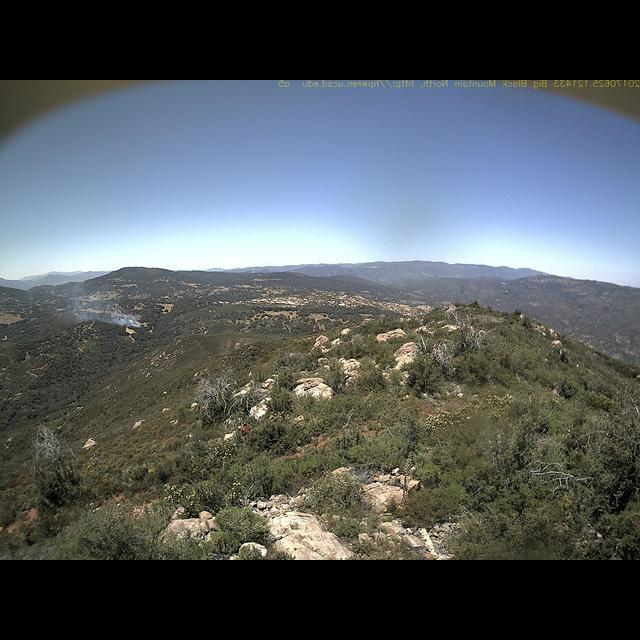Smoke: (61, 288, 144, 328)
